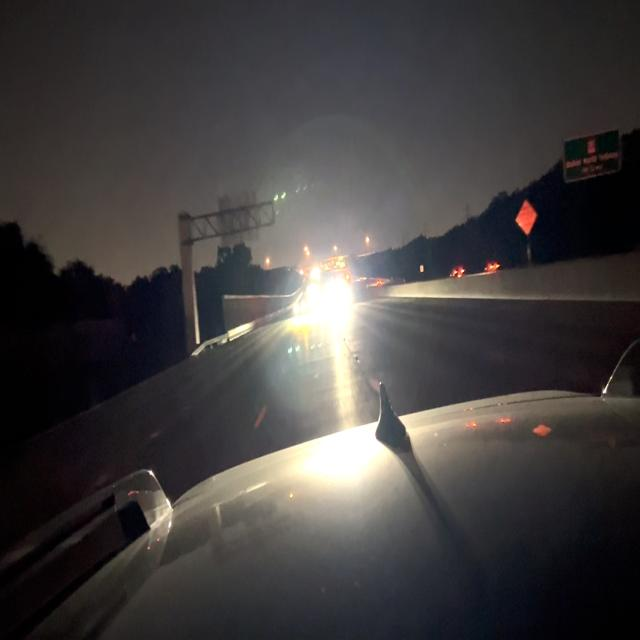back-of-sign: (218, 190, 259, 246)
